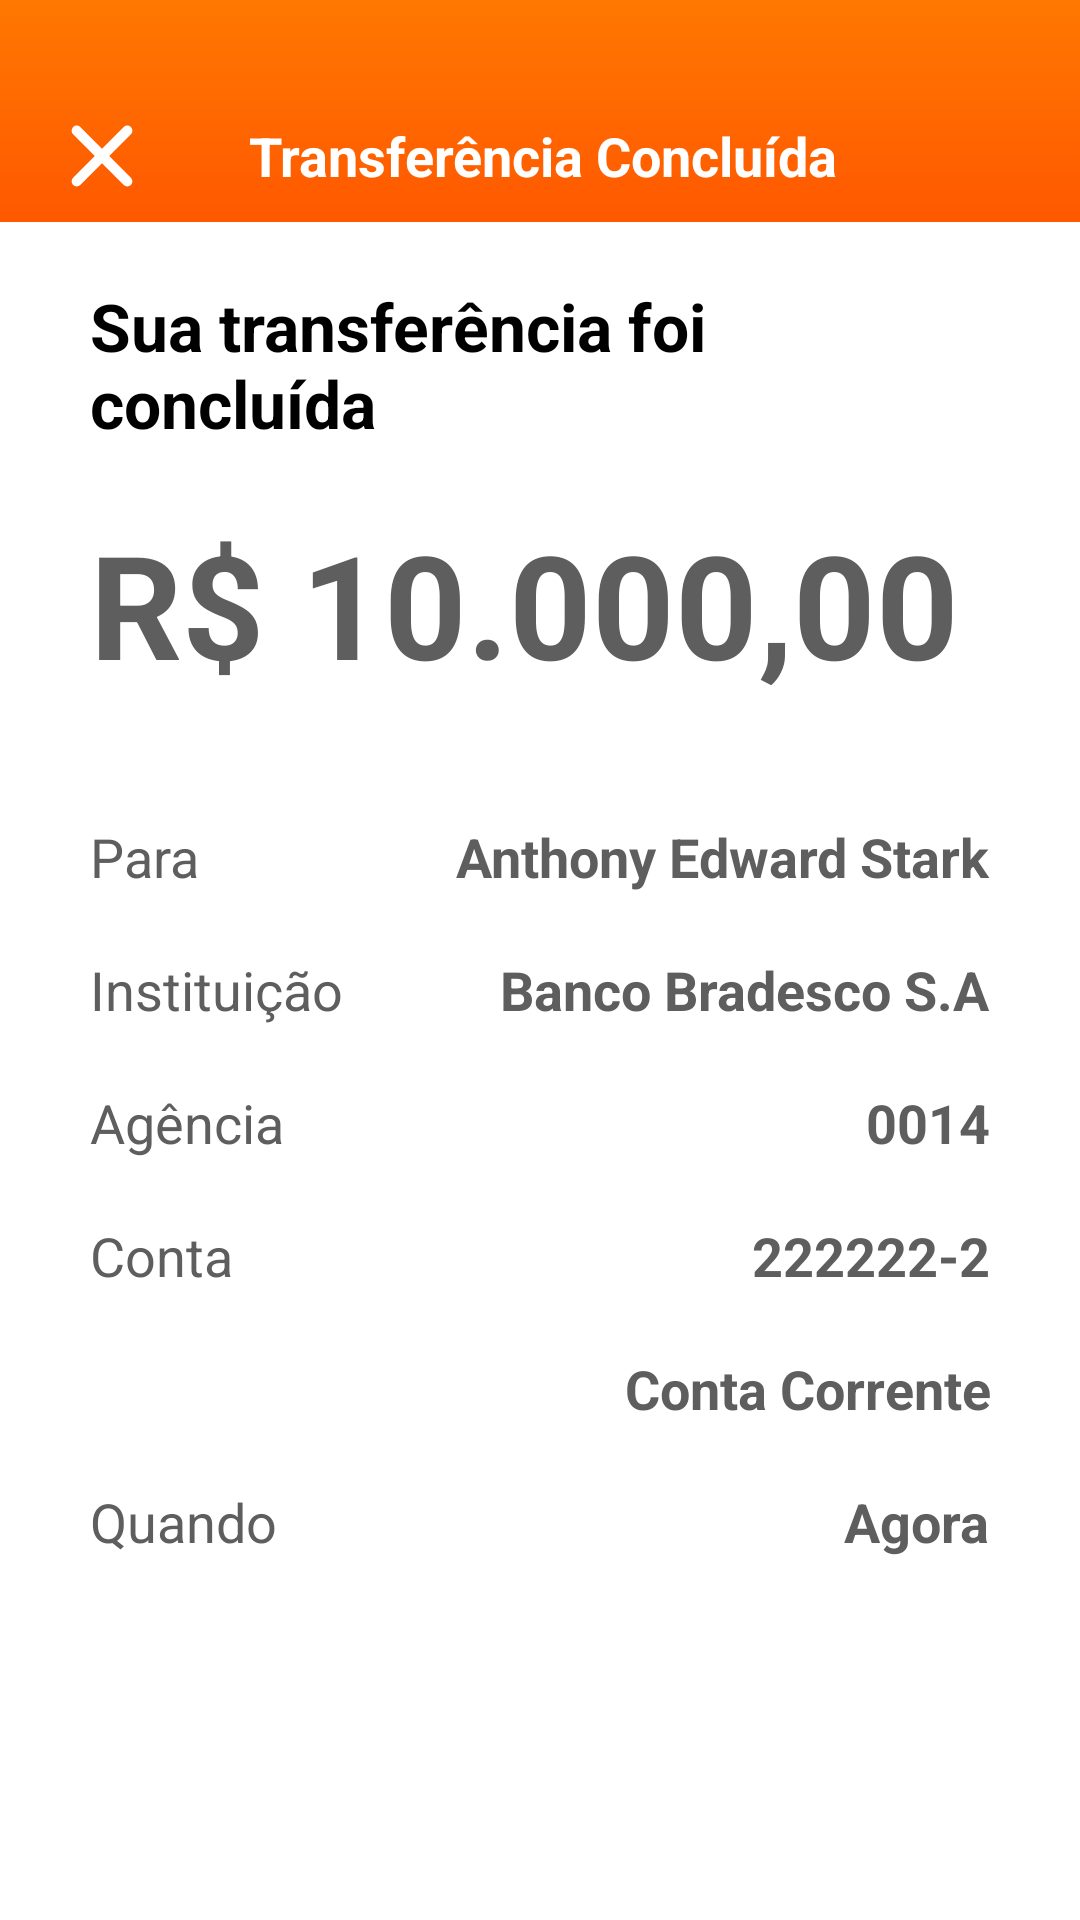

Locate icon controls on the screen. Image size 1080 × 1920, boxes as (x1, y1, x2, y2).
Icone de x para fechar a tela e retornar: (48, 90, 156, 187)
